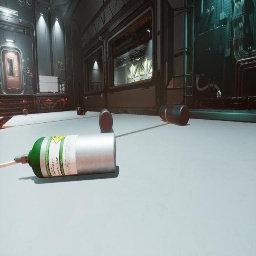0: (14, 132, 116, 178)
EmergencyPhone ,: (26, 66, 29, 73)
FireAlarm ,: (30, 73, 33, 78), (104, 74, 106, 79)
FireExtinguisher ]: (85, 108, 87, 112)
FirstAidBox ,: (77, 104, 86, 116), (48, 92, 55, 93)
NitrogenTank ,: (159, 104, 190, 126), (99, 108, 113, 133), (22, 109, 28, 115)
SafetySwitchPanel ,: (166, 60, 175, 88)
